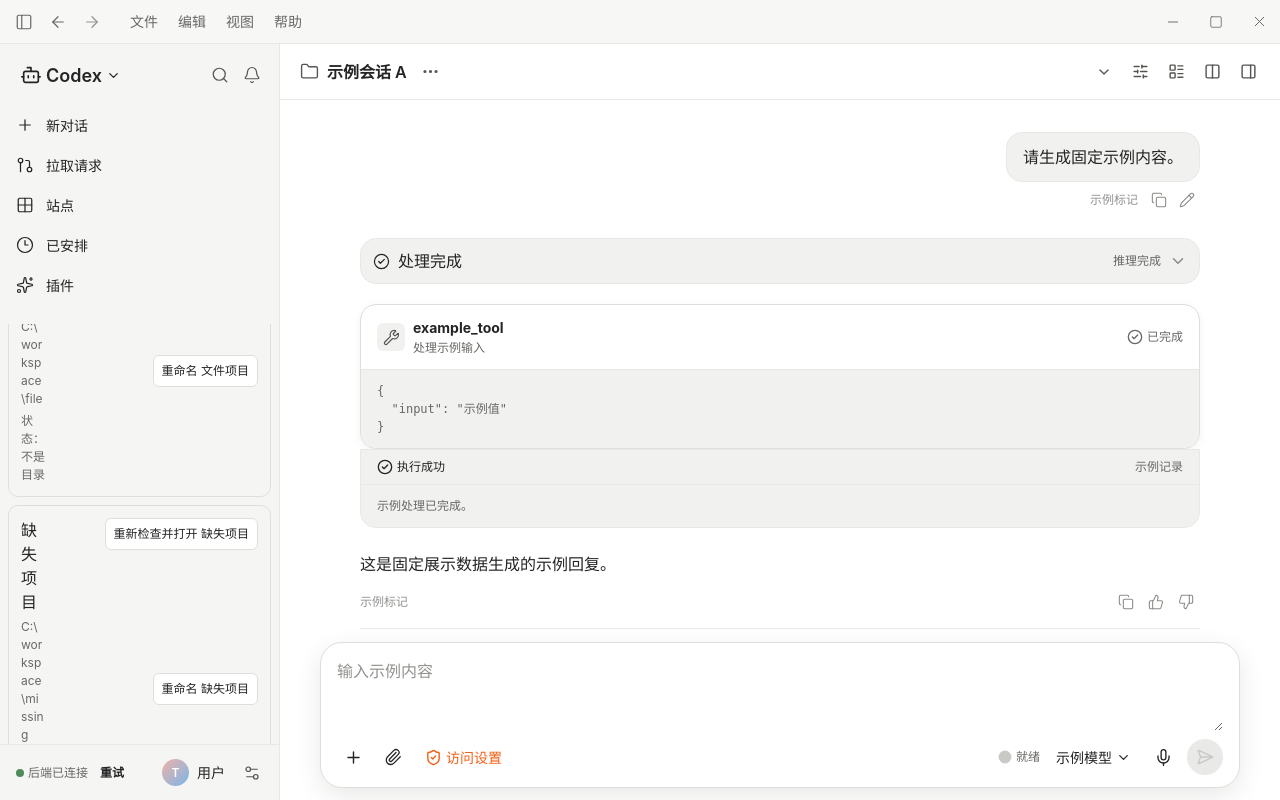
Test: M03 regression › renders every Workspace availability, preserves the list after a failed recheck, and keeps M01 independent
The width and height of the screenshot is (1280, 800).
(page scrolled)
Check: the text "状态：不是目录" is shown, box x1=21 y1=412 x2=45 y2=484
Click the button "重新检查并打开 缺失项目" at [181, 534], box x1=105 y1=518 x2=258 y2=550
(page scrolled)
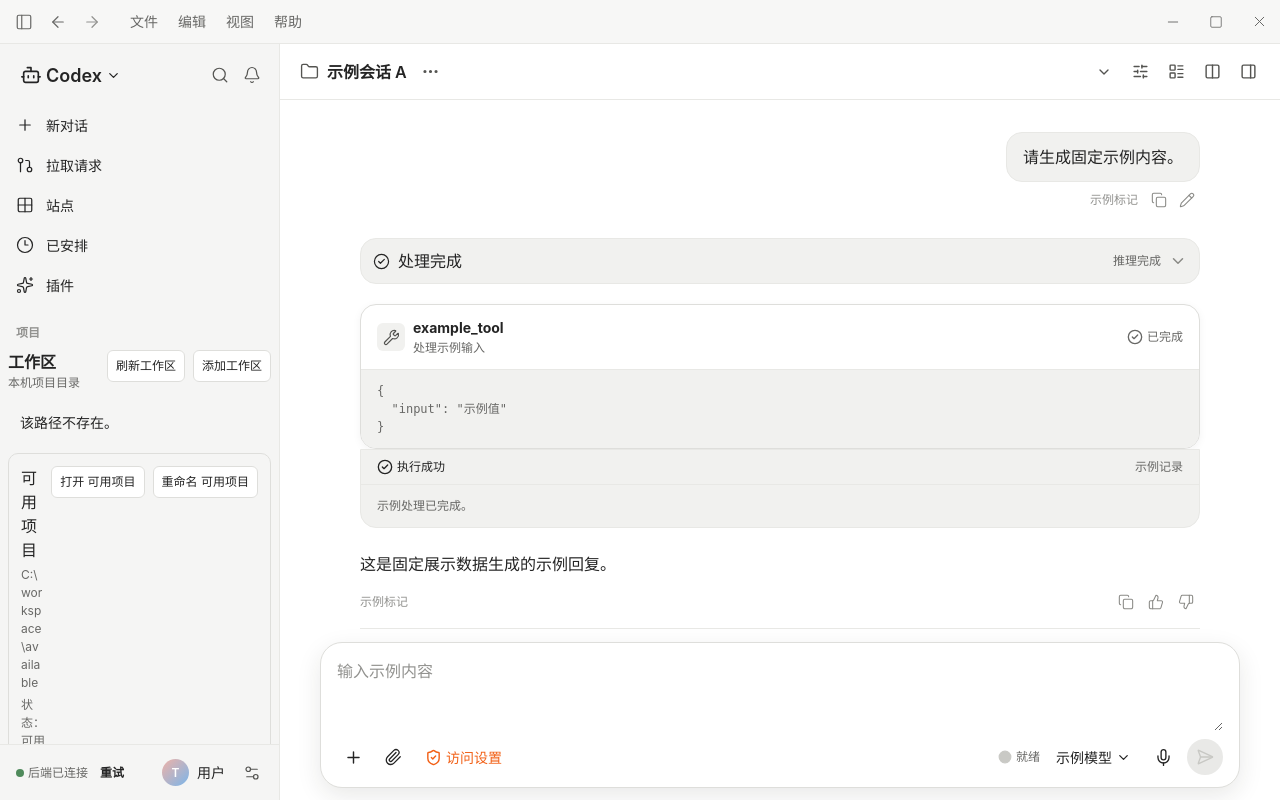
Check: the message "该路径不存在。" is shown, box x1=20 y1=414 x2=118 y2=431
Click the button "打开 可用项目" at [98, 482], box x1=51 y1=466 x2=145 y2=498
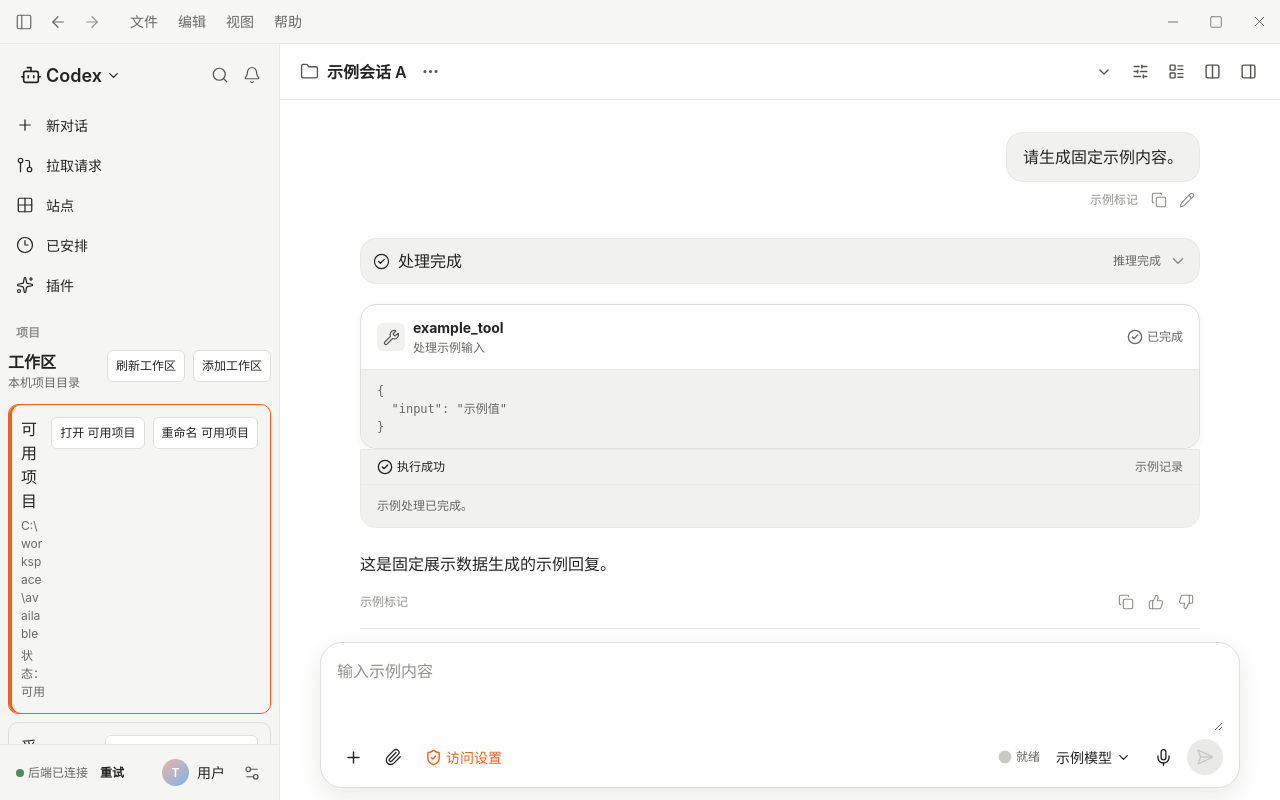
Check: the list item "可用项目 C:\\workspace\\available 状态：可用 打开 可用项目 重命名 可用项目" is shown, box x1=8 y1=404 x2=271 y2=714
Click the button named "更多会话选项" at [431, 72], box x1=415 y1=56 x2=447 y2=88
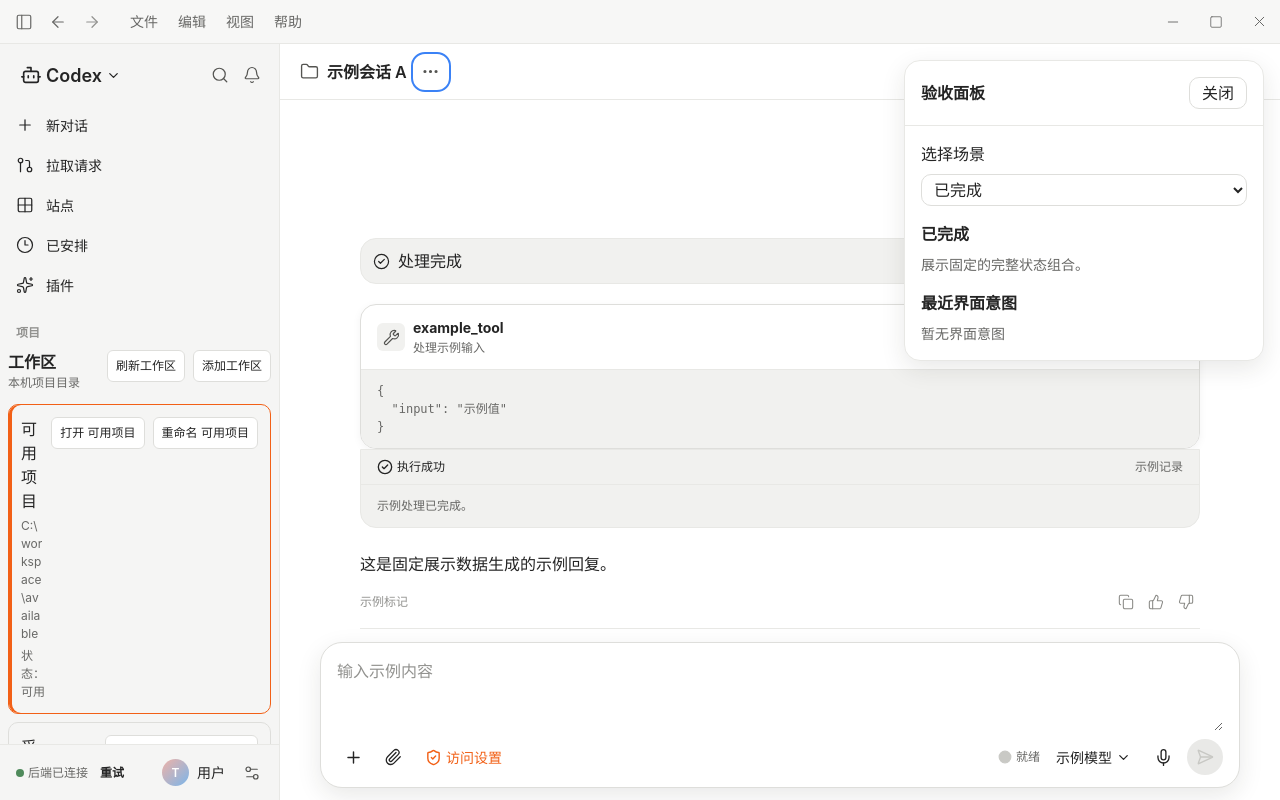
Check: the dialog "验收面板" is shown, box x1=904 y1=60 x2=1264 y2=361
